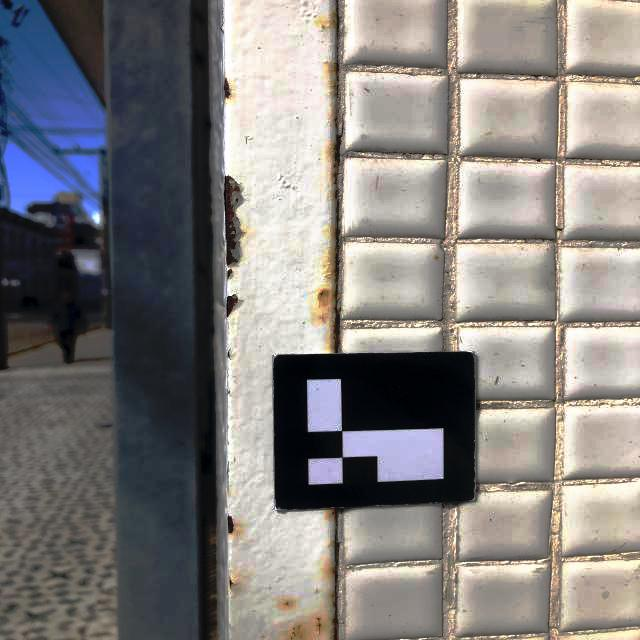Corrosion: (223, 176, 242, 278), (330, 137, 337, 192), (330, 305, 337, 354), (225, 294, 238, 316), (326, 617, 337, 640), (329, 4, 338, 32), (288, 627, 304, 640), (318, 289, 330, 306), (223, 77, 230, 98), (332, 110, 339, 130), (227, 517, 235, 534), (328, 510, 337, 522), (316, 619, 322, 636), (229, 578, 237, 590), (330, 78, 337, 90), (332, 61, 337, 74), (331, 567, 335, 582), (284, 602, 291, 609), (334, 187, 337, 200)
